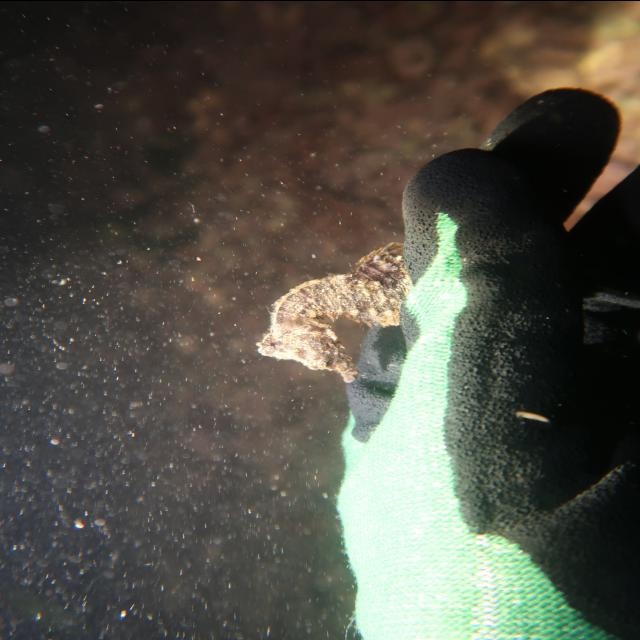Hippo: (252, 312, 364, 383)
